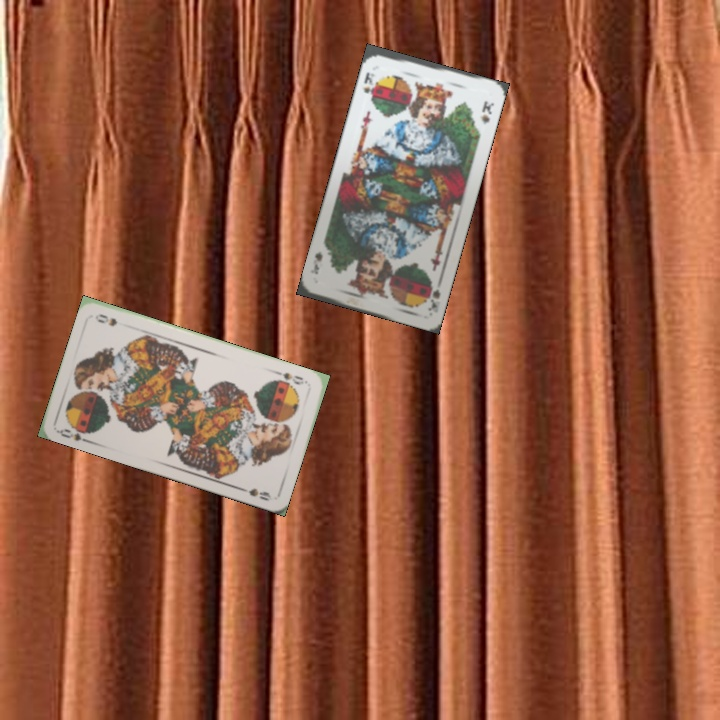SK: (424, 277, 443, 313), (359, 68, 379, 102)
SO: (54, 421, 96, 446), (271, 367, 310, 387)
